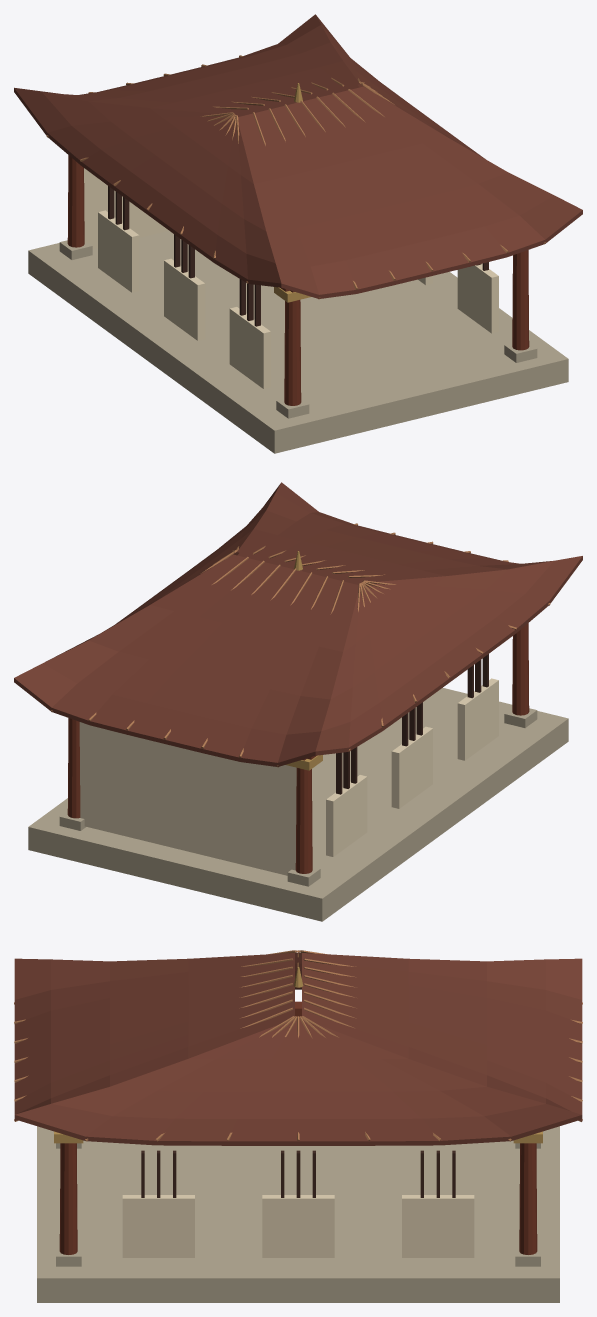
Rendered from thien-duong-blender.glb.
The picture shows the model from 3 angles, top to bottom: view 1: azimuth 30°, elevation 25°; view 2: azimuth 150°, elevation 25°; view 3: azimuth 270°, elevation 25°; orthographic projection. The views are drawn at different scales.
Visible parts, largest first — view 1: thien-duong-blender-tile, thien-duong-blender-stone, thien-duong-blender-plaster, thien-duong-blender-wood, thien-duong-blender-wood-dark, thien-duong-blender-tile-edge; view 2: thien-duong-blender-tile, thien-duong-blender-stone, thien-duong-blender-plaster, thien-duong-blender-wood, thien-duong-blender-wood-dark, thien-duong-blender-tile-edge; view 3: thien-duong-blender-tile, thien-duong-blender-stone, thien-duong-blender-plaster, thien-duong-blender-wood, thien-duong-blender-tile-edge, thien-duong-blender-wood-dark, thien-duong-blender-gold.
Boxes of the visible parts, x1,y1,x2,y2 form: thien-duong-blender-tile: (14, 14, 582, 298); thien-duong-blender-stone: (28, 230, 568, 453); thien-duong-blender-plaster: (84, 168, 498, 388); thien-duong-blender-wood: (67, 155, 529, 405); thien-duong-blender-wood-dark: (108, 186, 488, 326); thien-duong-blender-tile-edge: (46, 55, 545, 299); thien-duong-blender-tile: (14, 482, 582, 766); thien-duong-blender-stone: (28, 688, 568, 921); thien-duong-blender-plaster: (79, 678, 498, 875); thien-duong-blender-wood: (67, 623, 529, 873); thien-duong-blender-wood-dark: (336, 654, 488, 794); thien-duong-blender-tile-edge: (51, 523, 550, 767); thien-duong-blender-tile: (14, 953, 582, 1145); thien-duong-blender-stone: (37, 1126, 559, 1302); thien-duong-blender-plaster: (122, 1195, 474, 1257); thien-duong-blender-wood: (59, 1001, 537, 1254); thien-duong-blender-tile-edge: (14, 950, 582, 1141); thien-duong-blender-wood-dark: (141, 1150, 455, 1197); thien-duong-blender-gold: (54, 967, 542, 1143).
Bounding box in the file's own units: 8.26 × 6.35 × 12.63.
